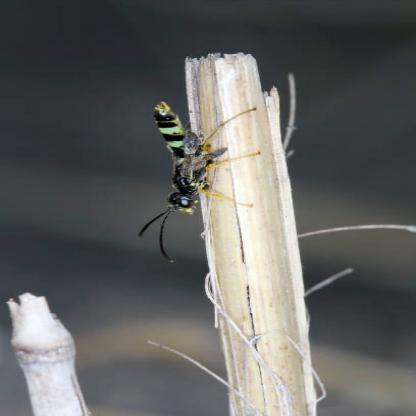sawfly: (131, 92, 272, 256)
